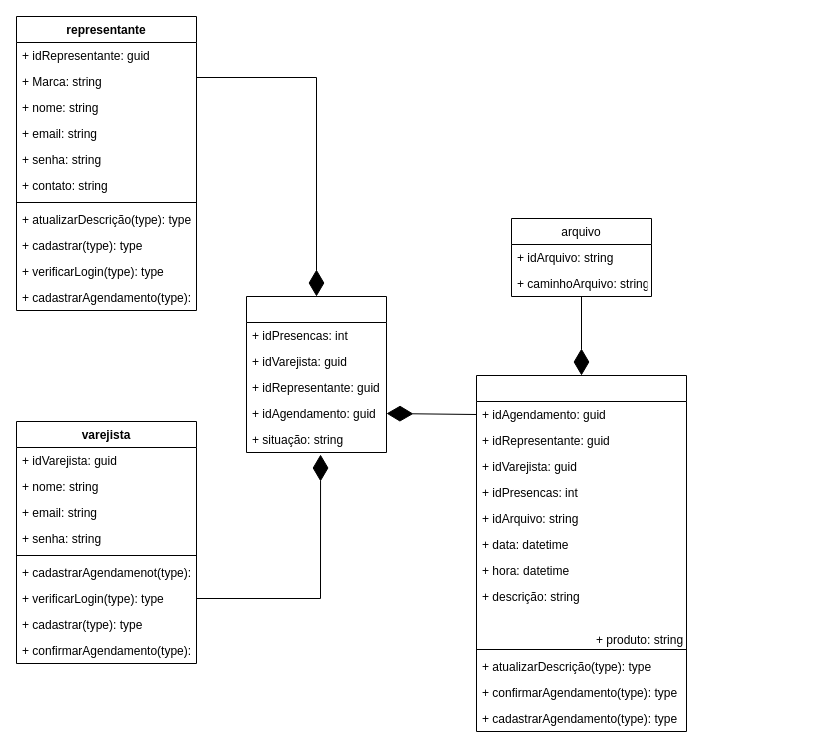
Image size: 817x748. Some labels were removed from this diagram. The shapes that lost their labels are listed below. From the top down, each one's box as (x1, y1, x2, y2) in pixels, then its label:
(246, 296, 386, 452): Presenacas
(476, 374, 686, 732): agendamentos
